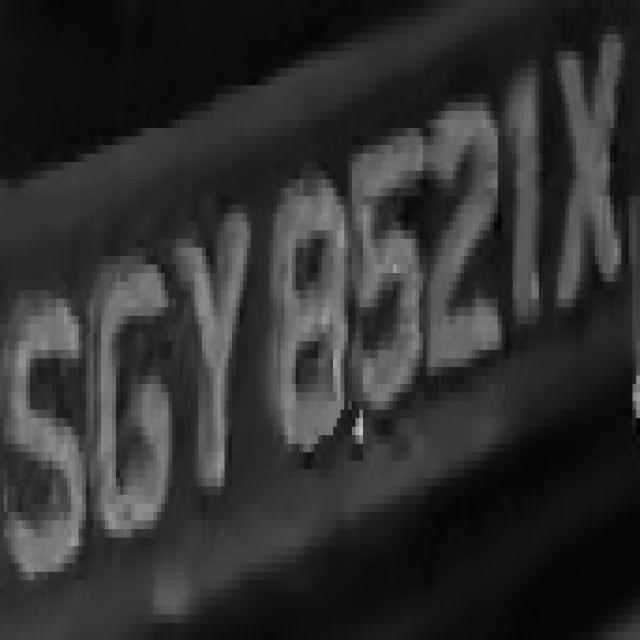1: (502, 52, 546, 358)
2: (419, 85, 502, 392)
5: (344, 102, 434, 436)
8: (258, 154, 363, 486)
G: (98, 205, 184, 572)
S: (0, 239, 94, 631)
X: (546, 26, 632, 324)
Y: (161, 162, 254, 521)
